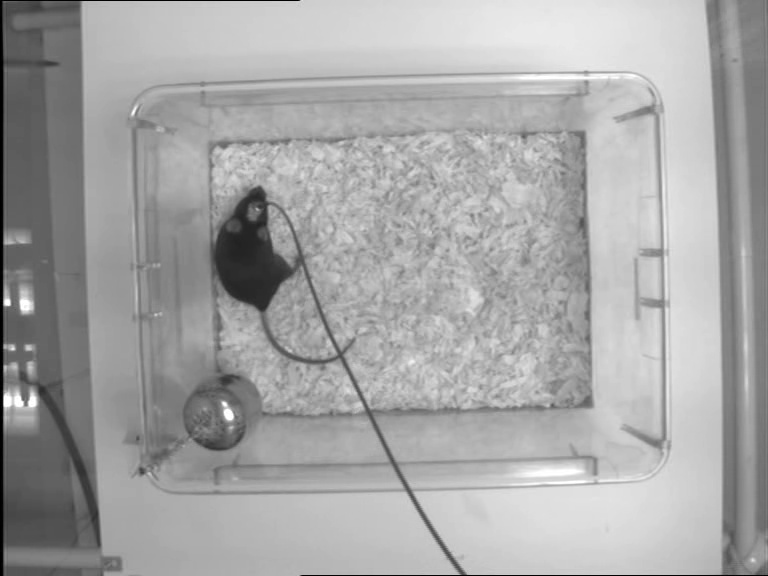mice: (209, 185, 359, 361)
